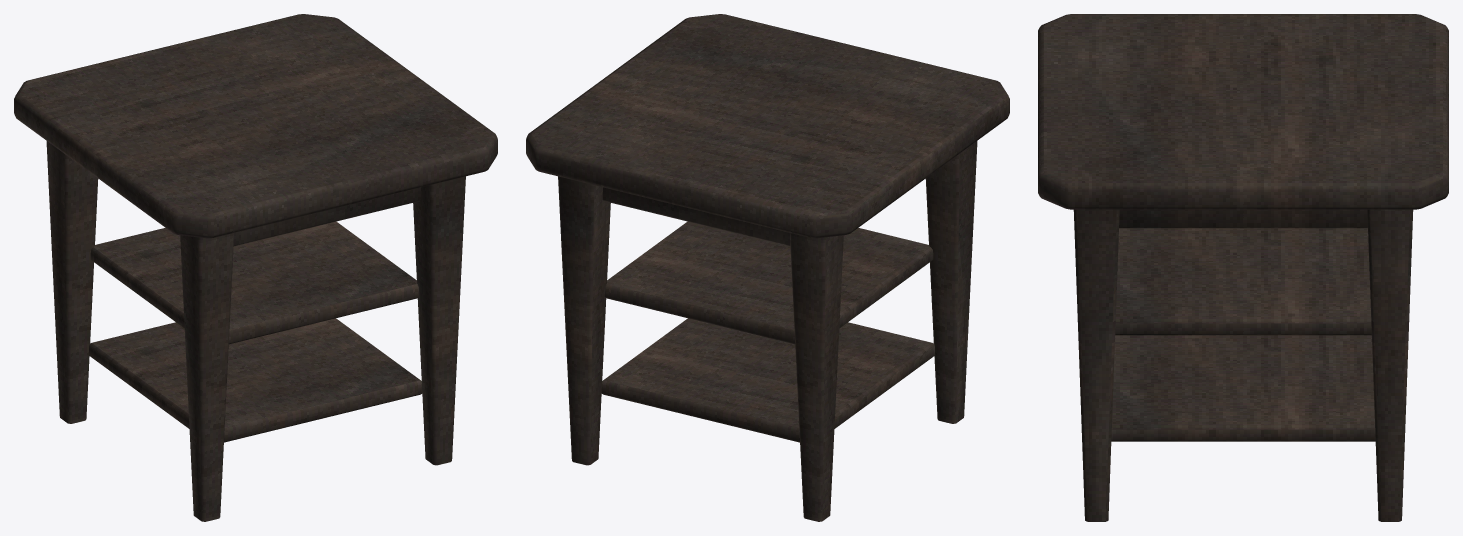
Rendered from table_small_2.glb.
3 renders of one model, left to right at view 1: azimuth 30°, elevation 25°; view 2: azimuth 150°, elevation 25°; view 3: azimuth 270°, elevation 25°, orthographic. The views are drawn at different scales.
Visible parts, largest first — view 1: table_small_2; view 2: table_small_2; view 3: table_small_2.
Boxes of the visible parts, x1=… form: table_small_2: x1=14, y1=14, x2=497, y2=521; table_small_2: x1=526, y1=14, x2=1009, y2=521; table_small_2: x1=1038, y1=14, x2=1448, y2=521.
Size of the model in its own units: 0.7 by 0.67 by 0.7.
1 material, 1 textured.
